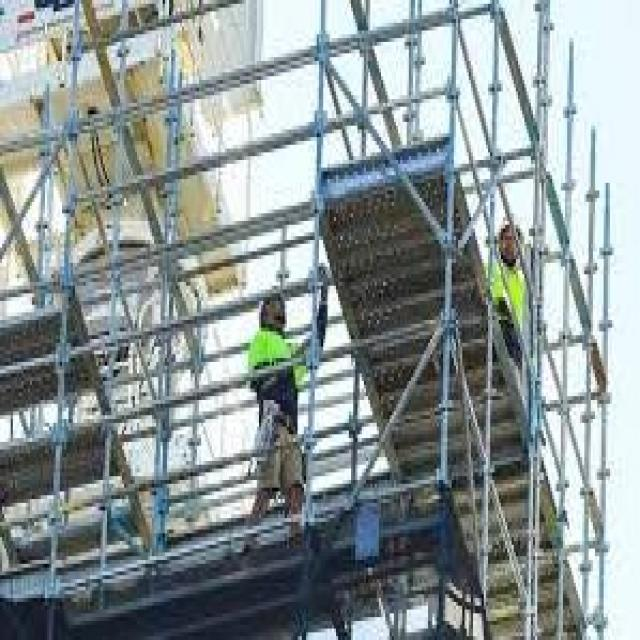Reflective-Jacket: (242, 312, 315, 408), (486, 255, 535, 343)
Safety-Helmet: (255, 278, 293, 328), (492, 210, 524, 259)
